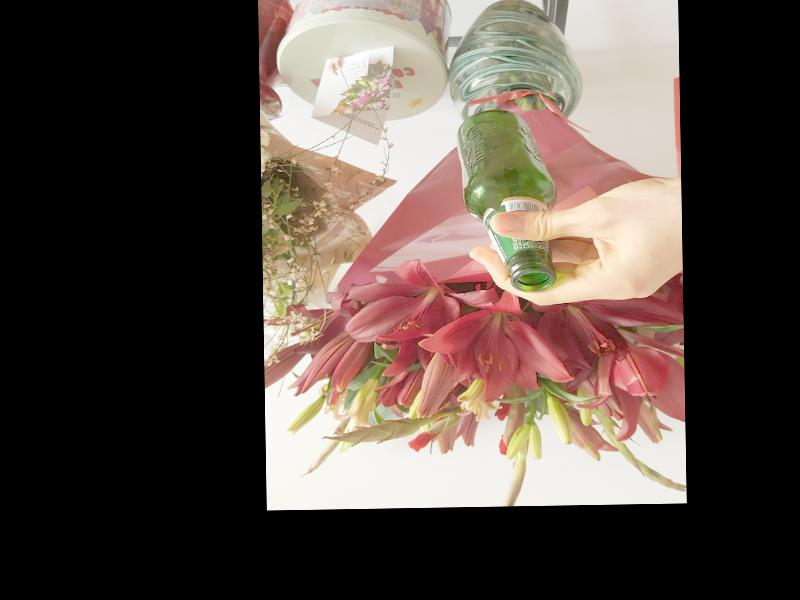Beer: (455, 109, 558, 292)
